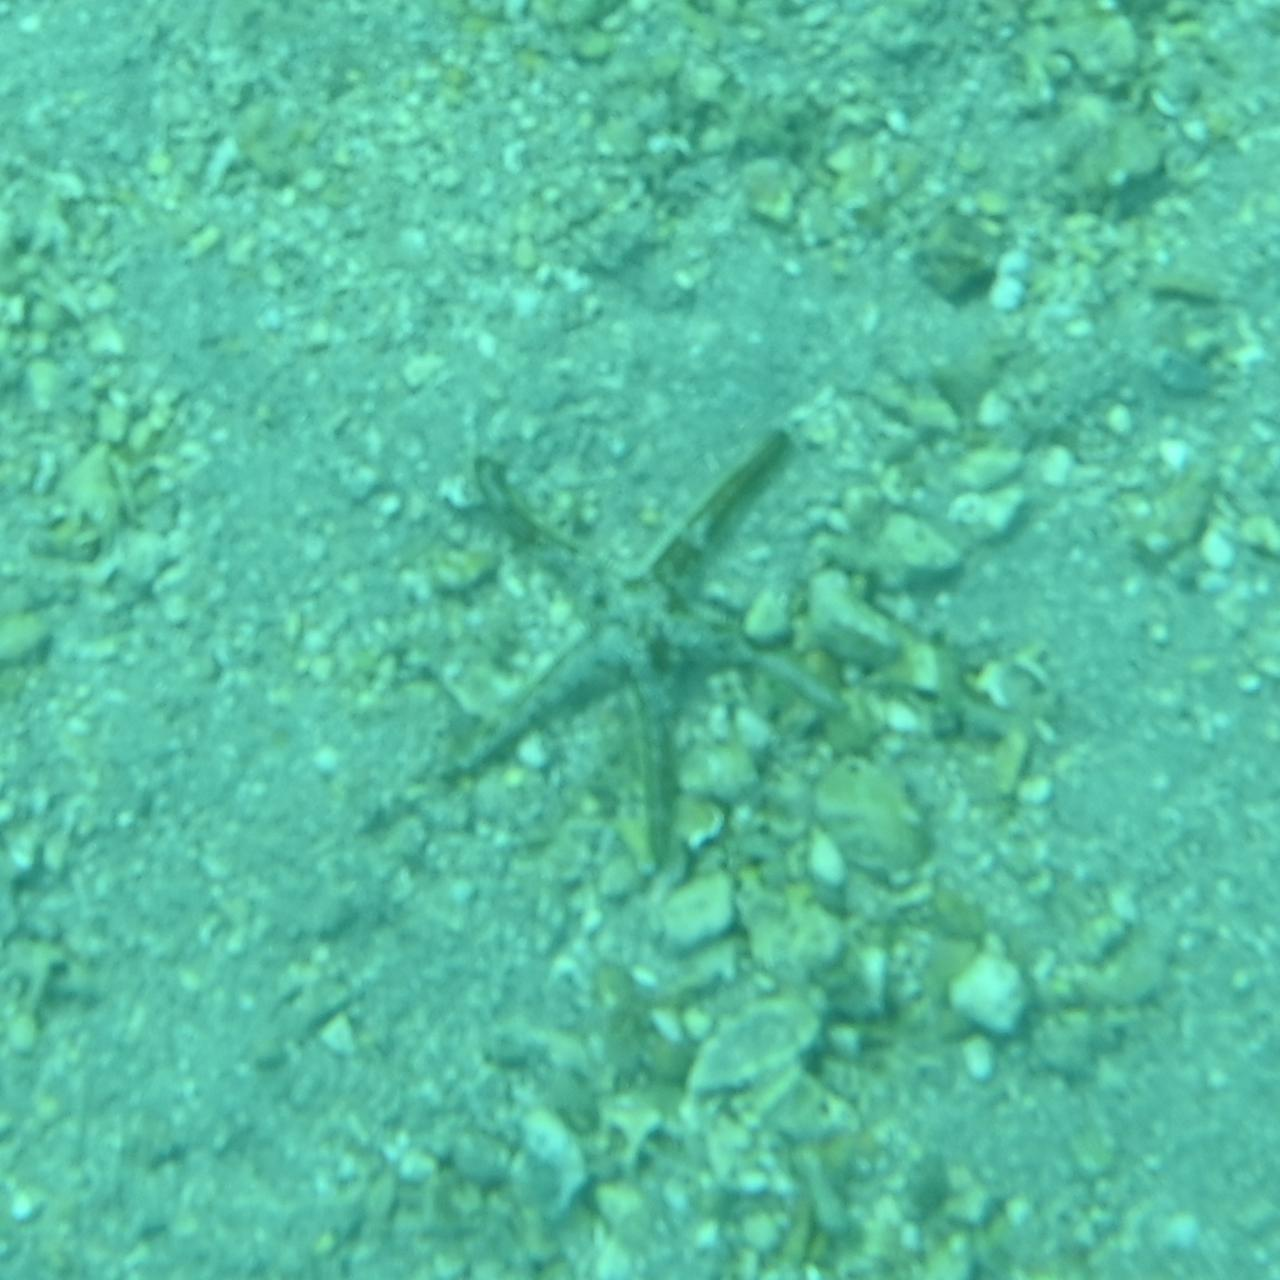Astropecten spp: (451, 408, 829, 872)
